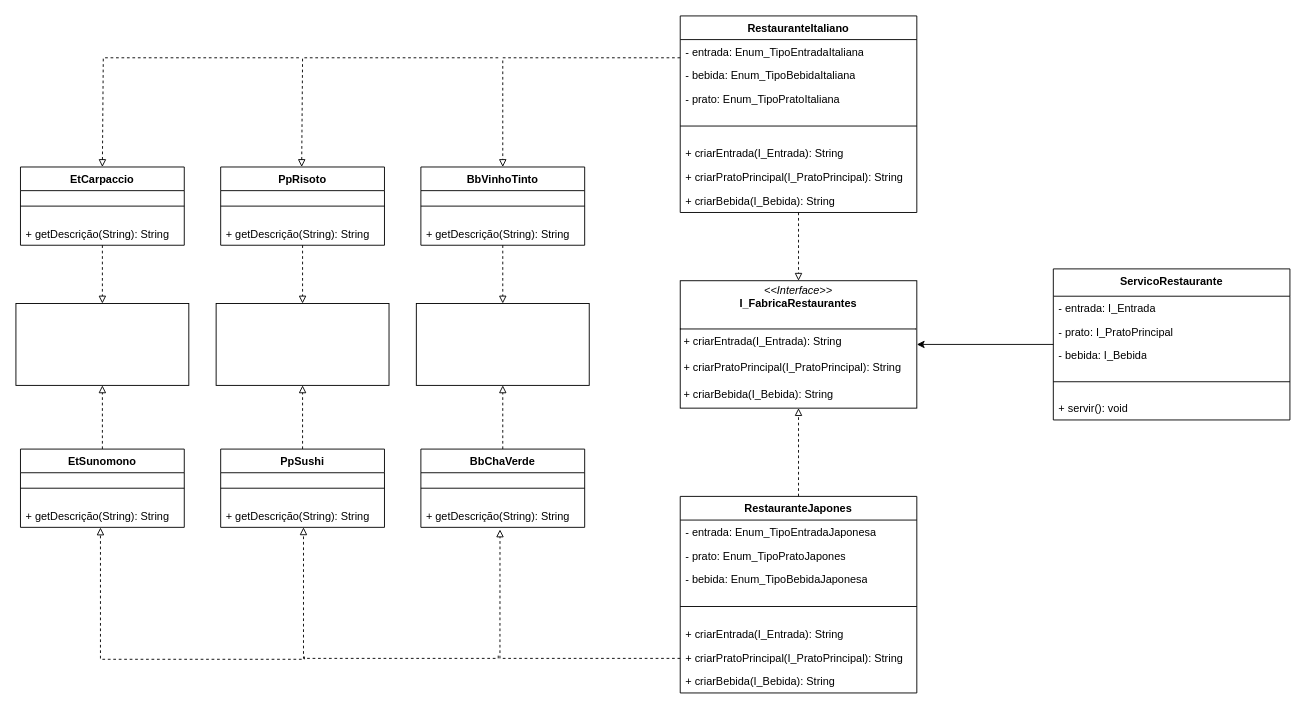
The diagram is 1306 pixels wide and 712 high, and some of its shapes have lost their labels. Here are the shapes that lost their labels. From the top down, the centre of each, then its label:
(102,344): <<Interface>> I_Entrada + getDescrição(String): String
(302,344): <<Interface>> I_PratoPrincipal + getDescrição(String): String
(502,344): <<Interface>> I_Bebida + getDescrição(String): String
